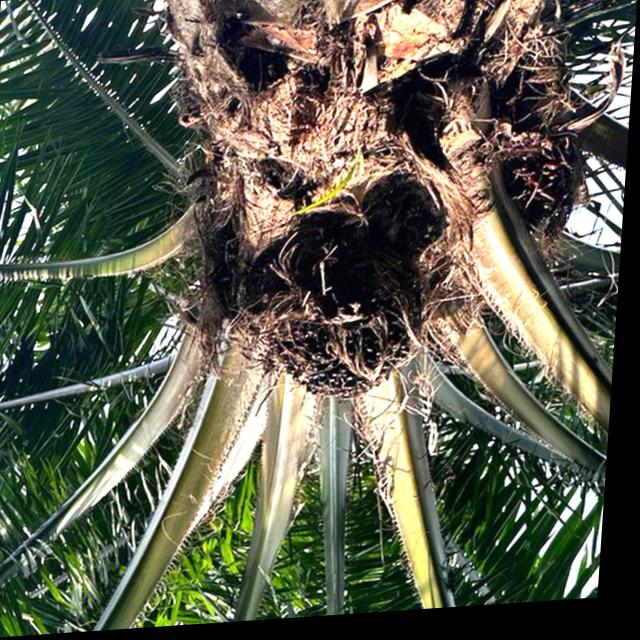unripe: (216, 191, 444, 418), (442, 76, 599, 263)
